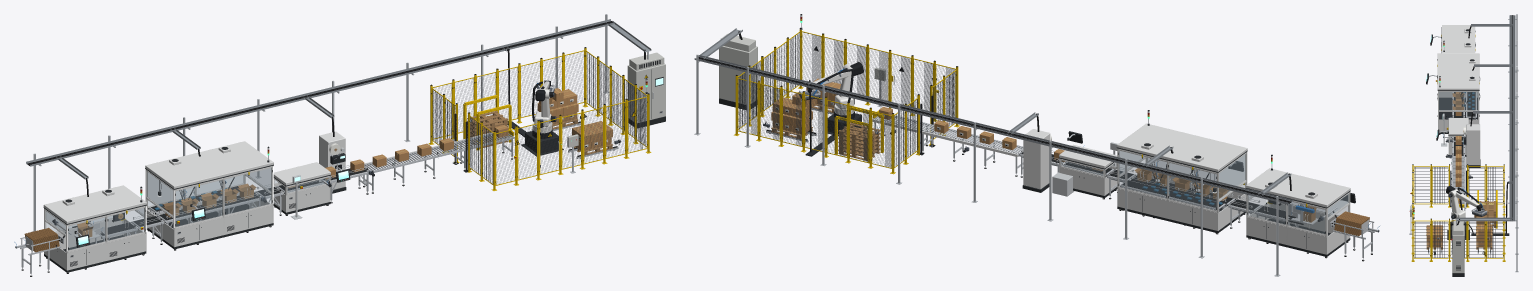
The model's file is machine.glb.
3 views of the same model, side by side, from view 1: azimuth 30°, elevation 25°; view 2: azimuth 150°, elevation 25°; view 3: azimuth 270°, elevation 25° (orthographic). The views are drawn at different scales.
Visible parts, largest first — view 1: 510 Veiligheidshek vorm, 210 Behuizing vorm, 110 Behuizing vorm, 630 Kabelgoot hoofdlijn vorm, 610 Schakelkast vorm, 600 Besturing vorm, 310 Controleweger vorm, 570 Palletmagazijn vorm, 430 Rollenbaan vorm, 340 Etiketteerder vorm, 200 Pick-and-place-cel vorm, 120 Kartonmagazijn vorm (+10 smaller); view 2: 510 Veiligheidshek vorm, 210 Behuizing vorm, 110 Behuizing vorm, 630 Kabelgoot hoofdlijn vorm, 600 Besturing vorm, 610 Schakelkast vorm, 310 Controleweger vorm, 570 Palletmagazijn vorm, 340 Etiketteerder vorm, 430 Rollenbaan vorm, 540 Pallet links vorm, 120 Kartonmagazijn vorm (+10 smaller); view 3: 510 Veiligheidshek vorm, 210 Behuizing vorm, 630 Kabelgoot hoofdlijn vorm, 600 Besturing vorm, 110 Behuizing vorm, 610 Schakelkast vorm, 340 Etiketteerder vorm, 310 Controleweger vorm, 540 Pallet links vorm, 550 Pallet rechts vorm, 430 Rollenbaan vorm, 570 Palletmagazijn vorm (+14 smaller).
Part boxes in pixels (x1,y1,x2,y2): 510 Veiligheidshek vorm: (428, 47, 651, 190); 210 Behuizing vorm: (145, 141, 273, 250); 110 Behuizing vorm: (43, 185, 146, 273); 630 Kabelgoot hoofdlijn vorm: (26, 19, 614, 166); 610 Schakelkast vorm: (627, 52, 665, 128); 600 Besturing vorm: (32, 14, 648, 231); 310 Controleweger vorm: (273, 162, 330, 215); 570 Palletmagazijn vorm: (463, 95, 511, 150); 430 Rollenbaan vorm: (363, 141, 465, 193); 340 Etiketteerder vorm: (319, 131, 346, 193); 200 Pick-and-place-cel vorm: (162, 183, 256, 217); 120 Kartonmagazijn vorm: (14, 227, 61, 276); 510 Veiligheidshek vorm: (734, 28, 959, 174); 210 Behuizing vorm: (1116, 123, 1247, 234); 110 Behuizing vorm: (1246, 168, 1350, 258); 630 Kabelgoot hoofdlijn vorm: (694, 55, 1292, 204); 600 Besturing vorm: (694, 30, 1291, 276); 610 Schakelkast vorm: (719, 33, 757, 110); 310 Controleweger vorm: (1059, 144, 1117, 199); 570 Palletmagazijn vorm: (834, 106, 883, 162); 340 Etiketteerder vorm: (1022, 129, 1057, 192); 430 Rollenbaan vorm: (920, 124, 1023, 176); 540 Pallet links vorm: (771, 97, 812, 139); 120 Kartonmagazijn vorm: (1332, 211, 1379, 261); 510 Veiligheidshek vorm: (1411, 164, 1505, 261); 210 Behuizing vorm: (1437, 53, 1480, 134); 630 Kabelgoot hoofdlijn vorm: (1509, 15, 1515, 221); 600 Besturing vorm: (1456, 14, 1518, 272); 110 Behuizing vorm: (1441, 25, 1475, 53); 610 Schakelkast vorm: (1451, 221, 1464, 276); 340 Etiketteerder vorm: (1462, 124, 1480, 167); 310 Controleweger vorm: (1448, 118, 1468, 156); 540 Pallet links vorm: (1476, 221, 1492, 249); 550 Pallet rechts vorm: (1426, 225, 1443, 249); 430 Rollenbaan vorm: (1451, 156, 1472, 190); 570 Palletmagazijn vorm: (1477, 190, 1497, 228).
Bounding box in the file's own units: 26.11 × 3.07 × 5.28.
